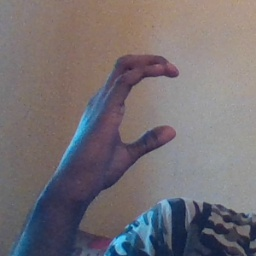C: (90, 45, 193, 169)
